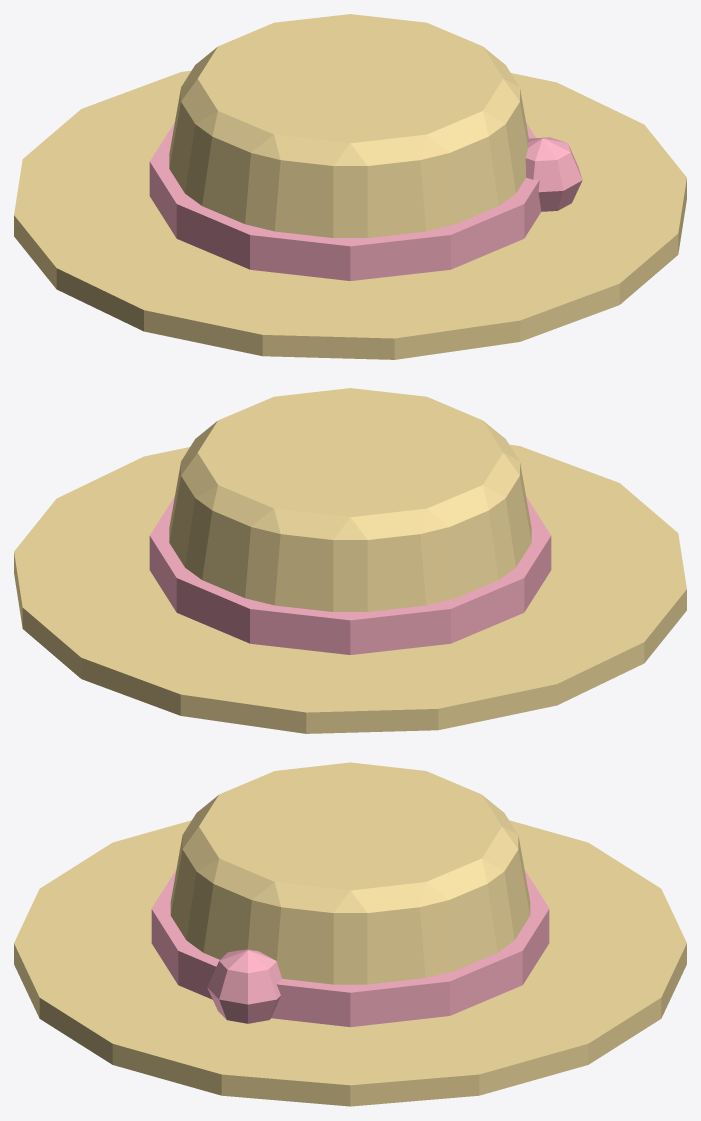
The model's file is CleanACat_NPC_SunHat.fbx.
The picture shows the model from 3 angles, top to bottom: view 1: azimuth 30°, elevation 25°; view 2: azimuth 150°, elevation 25°; view 3: azimuth 270°, elevation 25°; orthographic projection.
Visible parts, largest first — view 1: CleanACat_NPC_SunHat; view 2: CleanACat_NPC_SunHat; view 3: CleanACat_NPC_SunHat.
Boxes of the visible parts, left/top/right/bottom form: CleanACat_NPC_SunHat: left=14, top=14, right=686, bottom=359; CleanACat_NPC_SunHat: left=14, top=388, right=686, bottom=733; CleanACat_NPC_SunHat: left=14, top=762, right=686, bottom=1106.
Size of the model in its own units: 2.3 by 0.52 by 2.3.
Materials: 1 (1 with a texture image).
